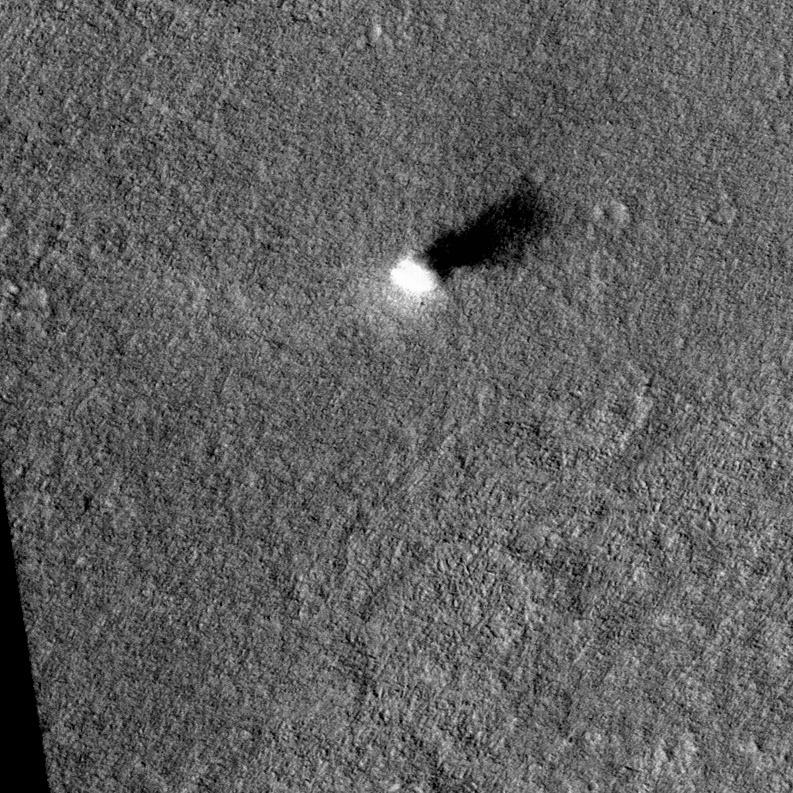dust_devil: (386, 182, 560, 304)
